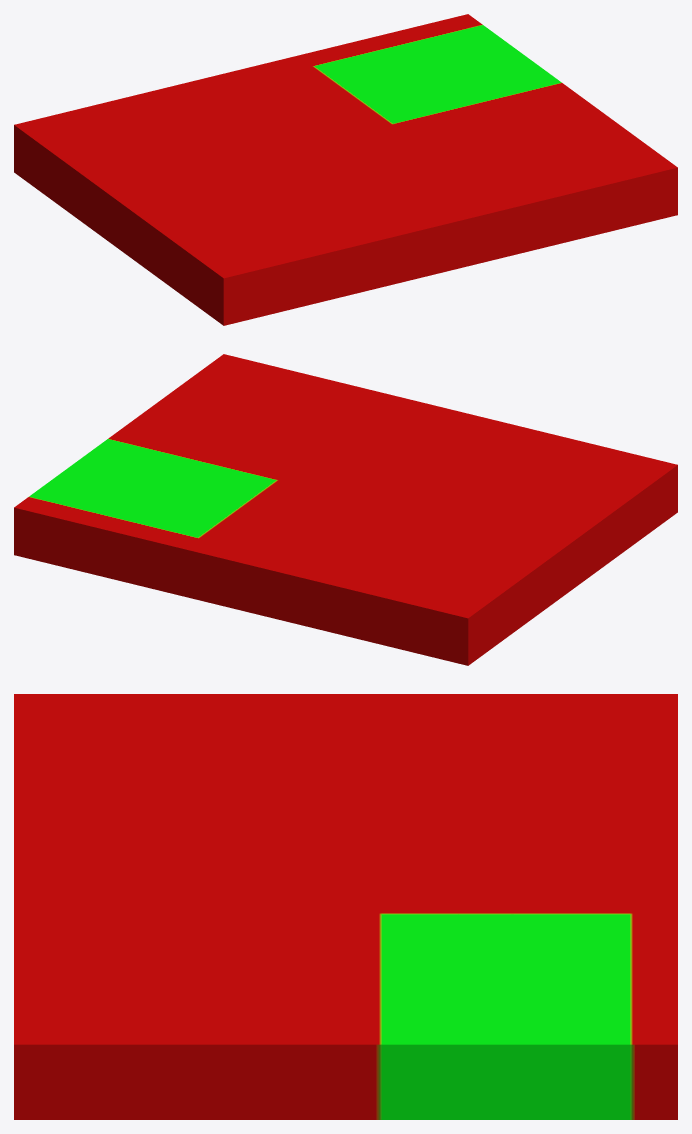
The model's file is Chargepack.fbx.
3 views of the same model, one above another, from view 1: azimuth 30°, elevation 25°; view 2: azimuth 150°, elevation 25°; view 3: azimuth 270°, elevation 25° (orthographic). The views are drawn at different scales.
Parts seen in each view (by area): view 1: pCube1; view 2: pCube1; view 3: pCube1.
Part boxes in pixels (x1,y1,x2,y2): pCube1: (14, 14, 677, 325); pCube1: (14, 354, 677, 665); pCube1: (14, 694, 677, 1119).
Bounding box in the file's own units: 1.25 × 0.125 × 1.
1 material, 1 textured.
